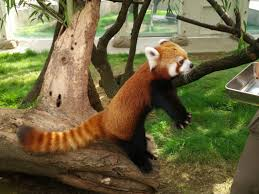redPanda: (17, 38, 198, 166)
